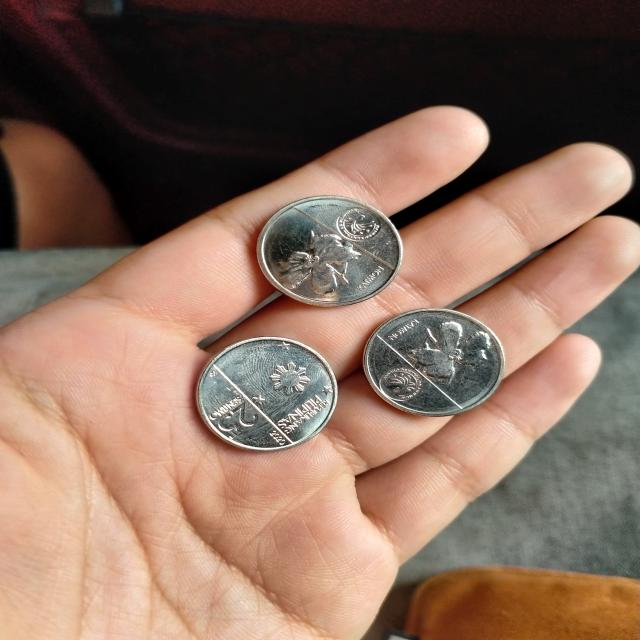25Cent_New_Back: (268, 228, 364, 298), (401, 314, 491, 379)
25Cent_New_Front: (201, 396, 262, 439)
